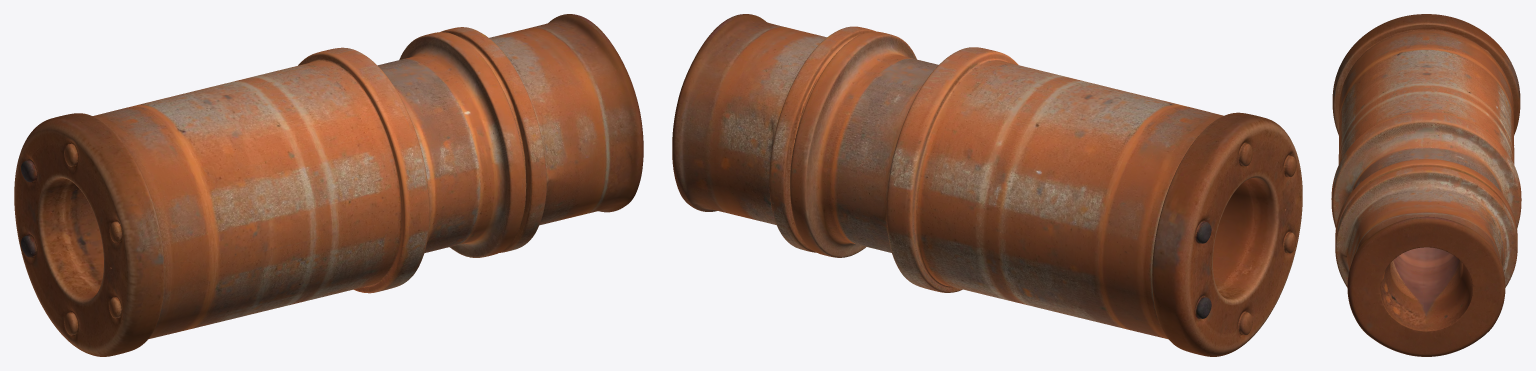
File: Meshy_AI_rusty_pipe_0402121715_texture.glb
3 renders of one model, left to right at view 1: azimuth 30°, elevation 25°; view 2: azimuth 150°, elevation 25°; view 3: azimuth 270°, elevation 25°, orthographic. The views are drawn at different scales.
Parts seen in each view (by area): view 1: Mesh_0.001; view 2: Mesh_0.001; view 3: Mesh_0.001.
Part boxes in pixels (left/top/right/bottom): Mesh_0.001: left=14, top=14, right=643, bottom=356; Mesh_0.001: left=672, top=14, right=1302, bottom=356; Mesh_0.001: left=1331, top=14, right=1521, bottom=356.
Size of the model in its own units: 1.9 by 0.7678 by 0.7792.
Materials: 1 (1 with a texture image).
